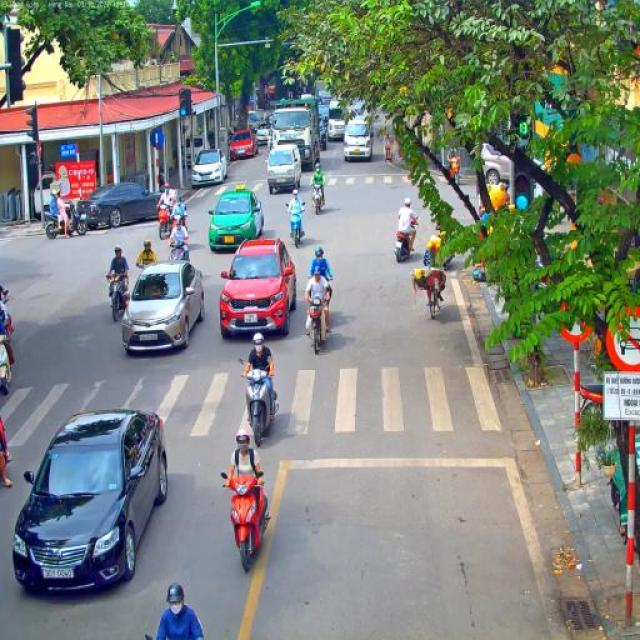car: (12, 410, 169, 598), (122, 258, 206, 358), (220, 239, 298, 340), (75, 182, 164, 229), (207, 188, 266, 254), (267, 142, 302, 194), (192, 148, 228, 188), (480, 144, 511, 188), (343, 120, 373, 162), (228, 129, 258, 161), (247, 110, 262, 132), (318, 118, 327, 152), (256, 126, 270, 146)
motorcycle: (220, 470, 271, 574), (238, 357, 280, 447), (304, 287, 334, 354), (43, 203, 88, 241), (393, 216, 421, 263), (106, 272, 130, 322), (286, 202, 306, 248), (0, 333, 14, 397), (0, 287, 12, 340), (158, 204, 174, 240), (310, 183, 324, 215), (168, 240, 190, 260), (168, 214, 187, 237), (446, 156, 460, 187), (312, 274, 333, 294)
truck: (271, 99, 320, 169), (327, 99, 373, 142), (300, 94, 320, 115), (316, 88, 332, 113)
